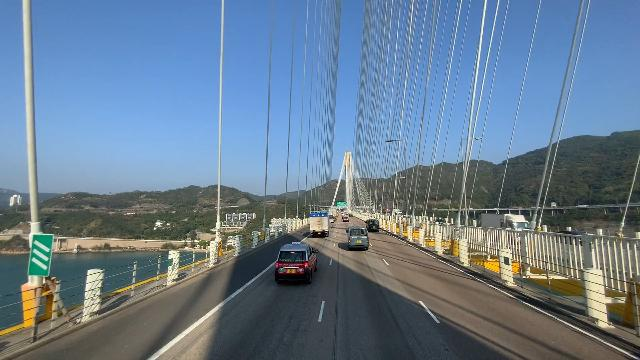car: (276, 239, 320, 285), (347, 225, 369, 249), (366, 218, 382, 234), (342, 215, 349, 222), (329, 215, 335, 223), (349, 213, 353, 217)
truck: (311, 210, 332, 238)
